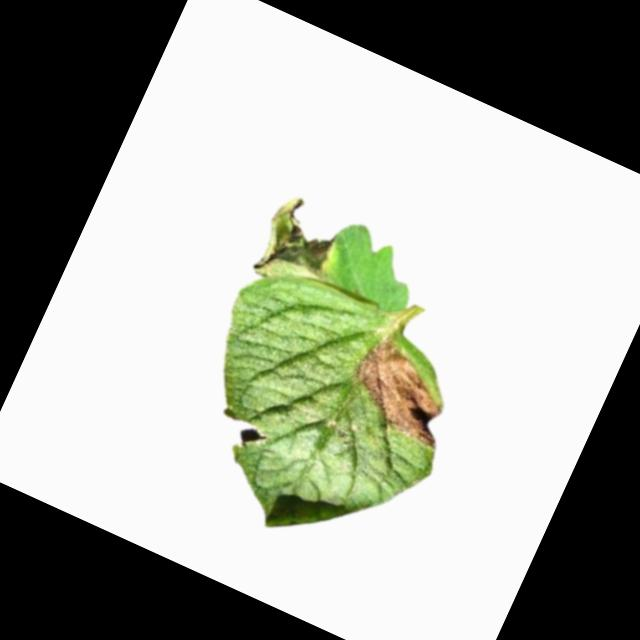Late_blight: (338, 327, 474, 453), (247, 191, 350, 301)
